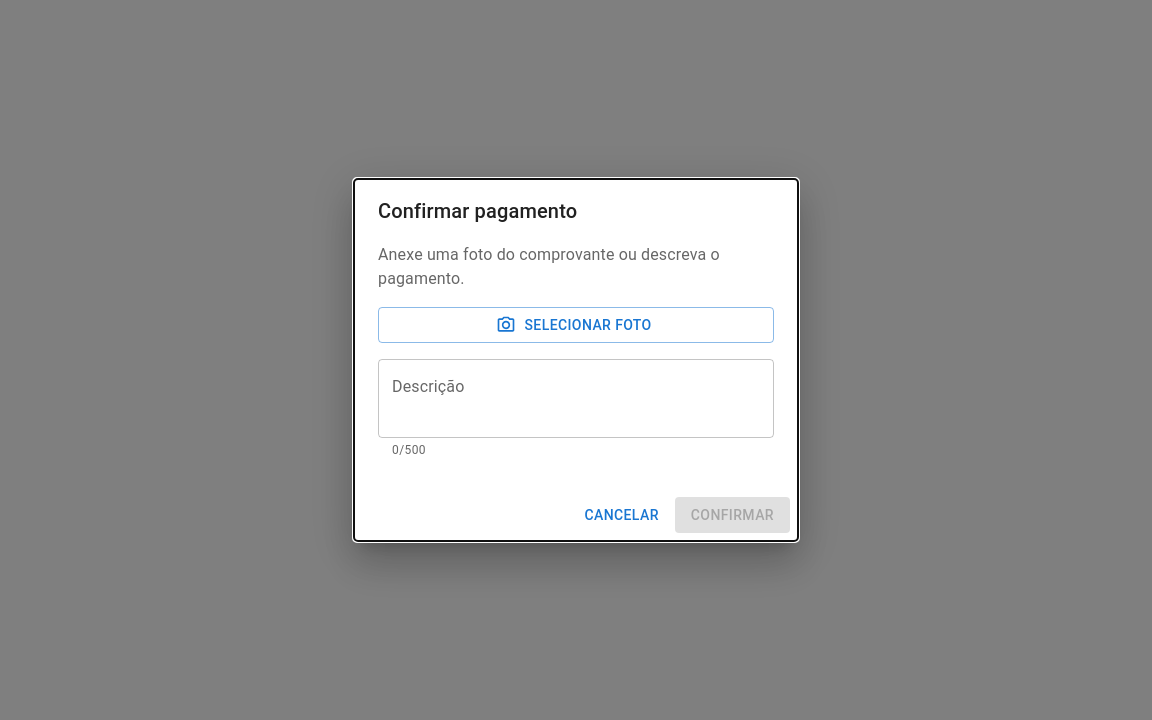
it: PaymentProofDialog › limits the note to 500 characters and shows the counter
The image size is (1152, 720).
Expected: the text "0/500" is shown, [392,443,426,457]
In the text box labelled "Descrição": [576, 398] box [392,376,760,422], type "abc"
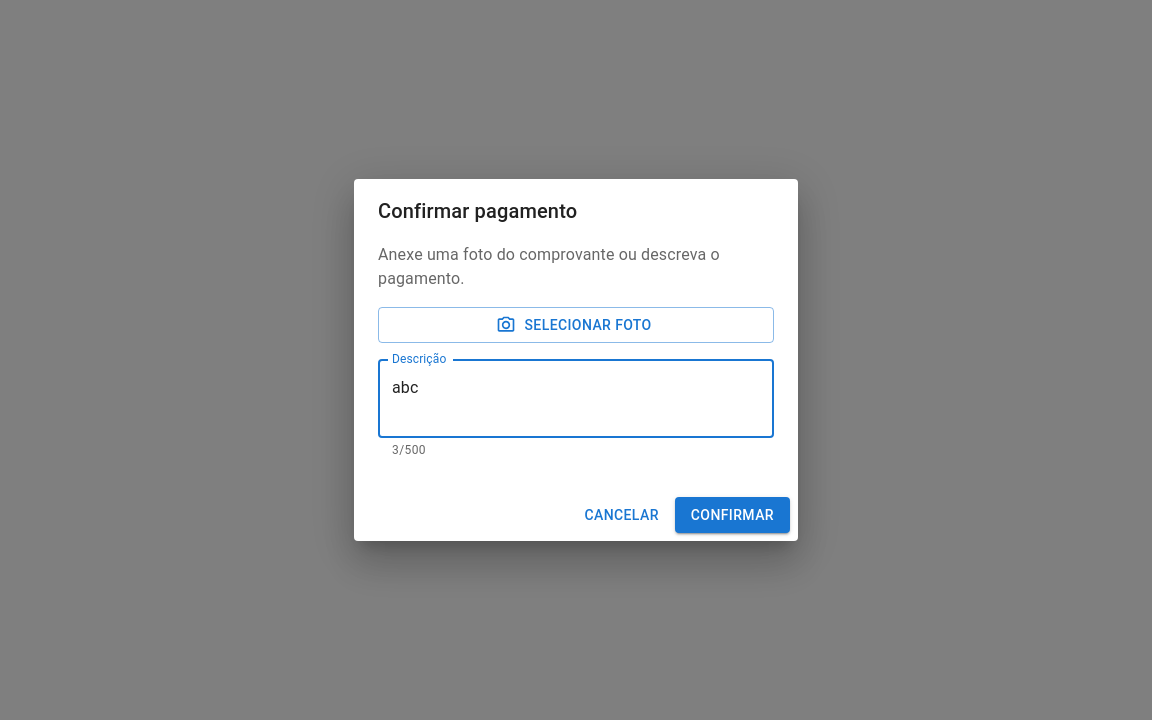
Now the text "3/500" is shown, box [392,443,426,457]
